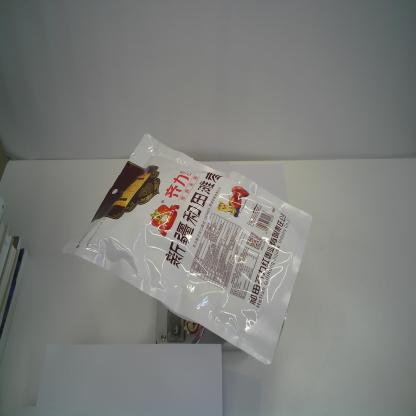Dried Food: (62, 132, 313, 366)
